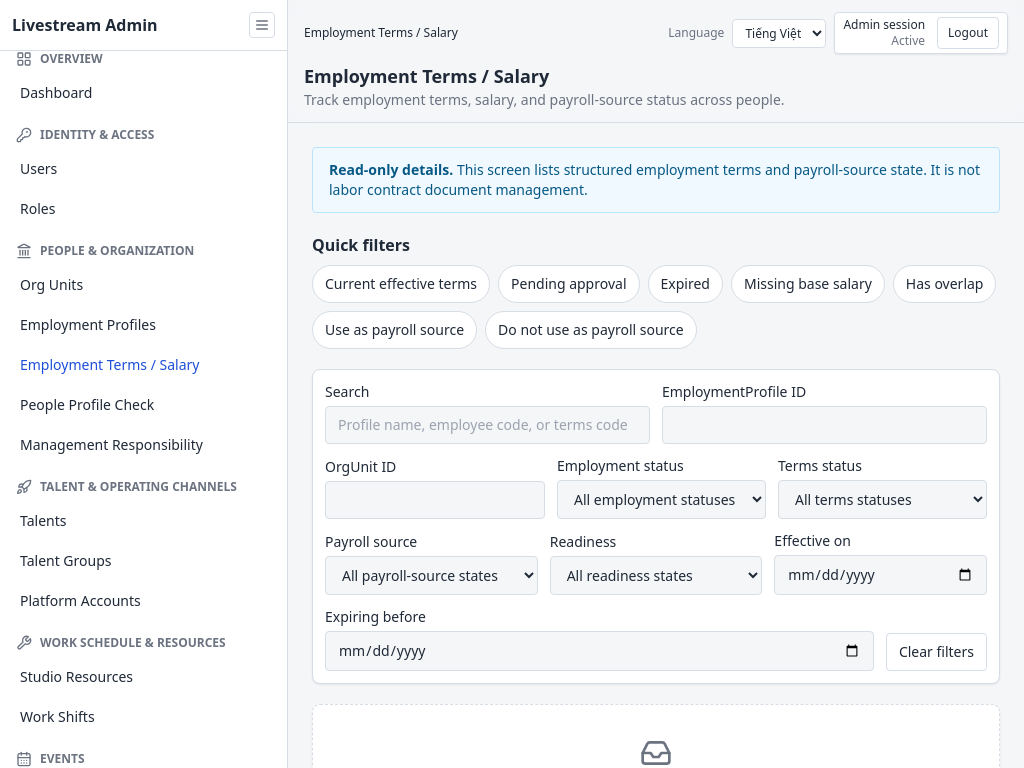
it: Employment Terms admin workspace › distinguishes the initial empty state from a filtered empty result
In the field labelled "Search": [488, 425] box [325,406,650,444], type "missing"
(page scrolled)
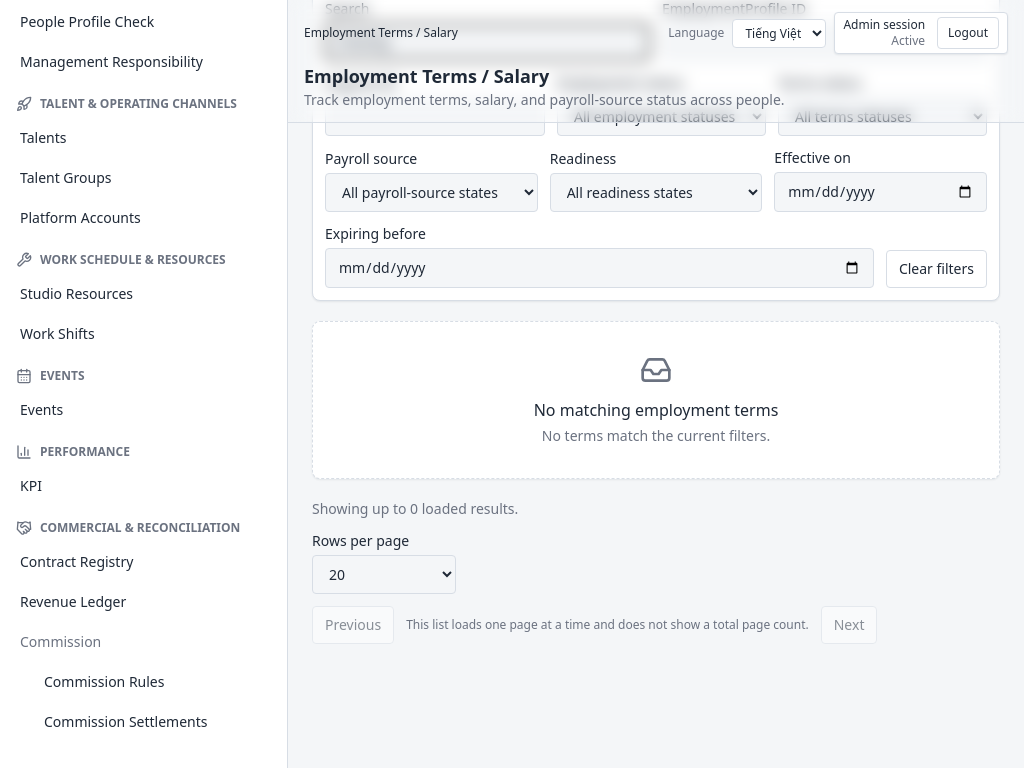
Check: the text "No matching employment terms" is shown, box [534,399,778,421]
Check: the text "No terms match the current filters." is shown, box [542,426,770,445]
